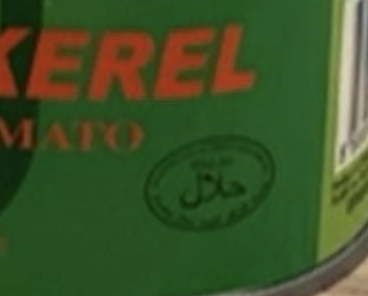halal: (178, 164, 247, 206)
